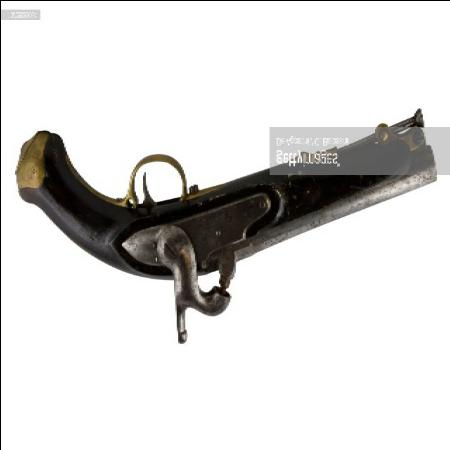Pistol: (12, 89, 436, 348)
